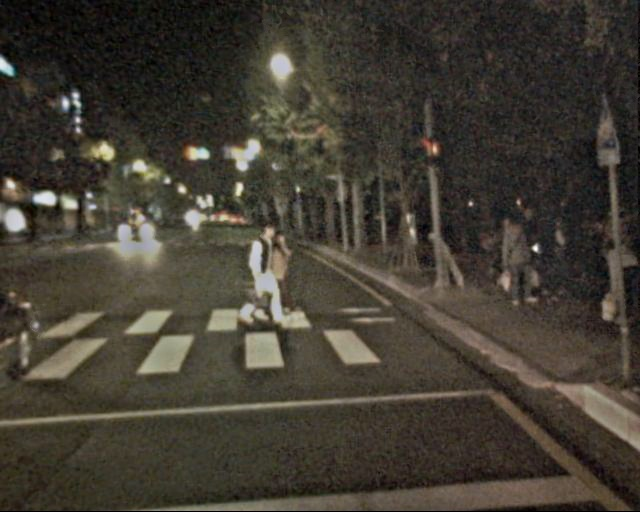person: (243, 223, 285, 325), (534, 209, 575, 310), (596, 231, 637, 330), (497, 215, 541, 301), (255, 227, 294, 322)
